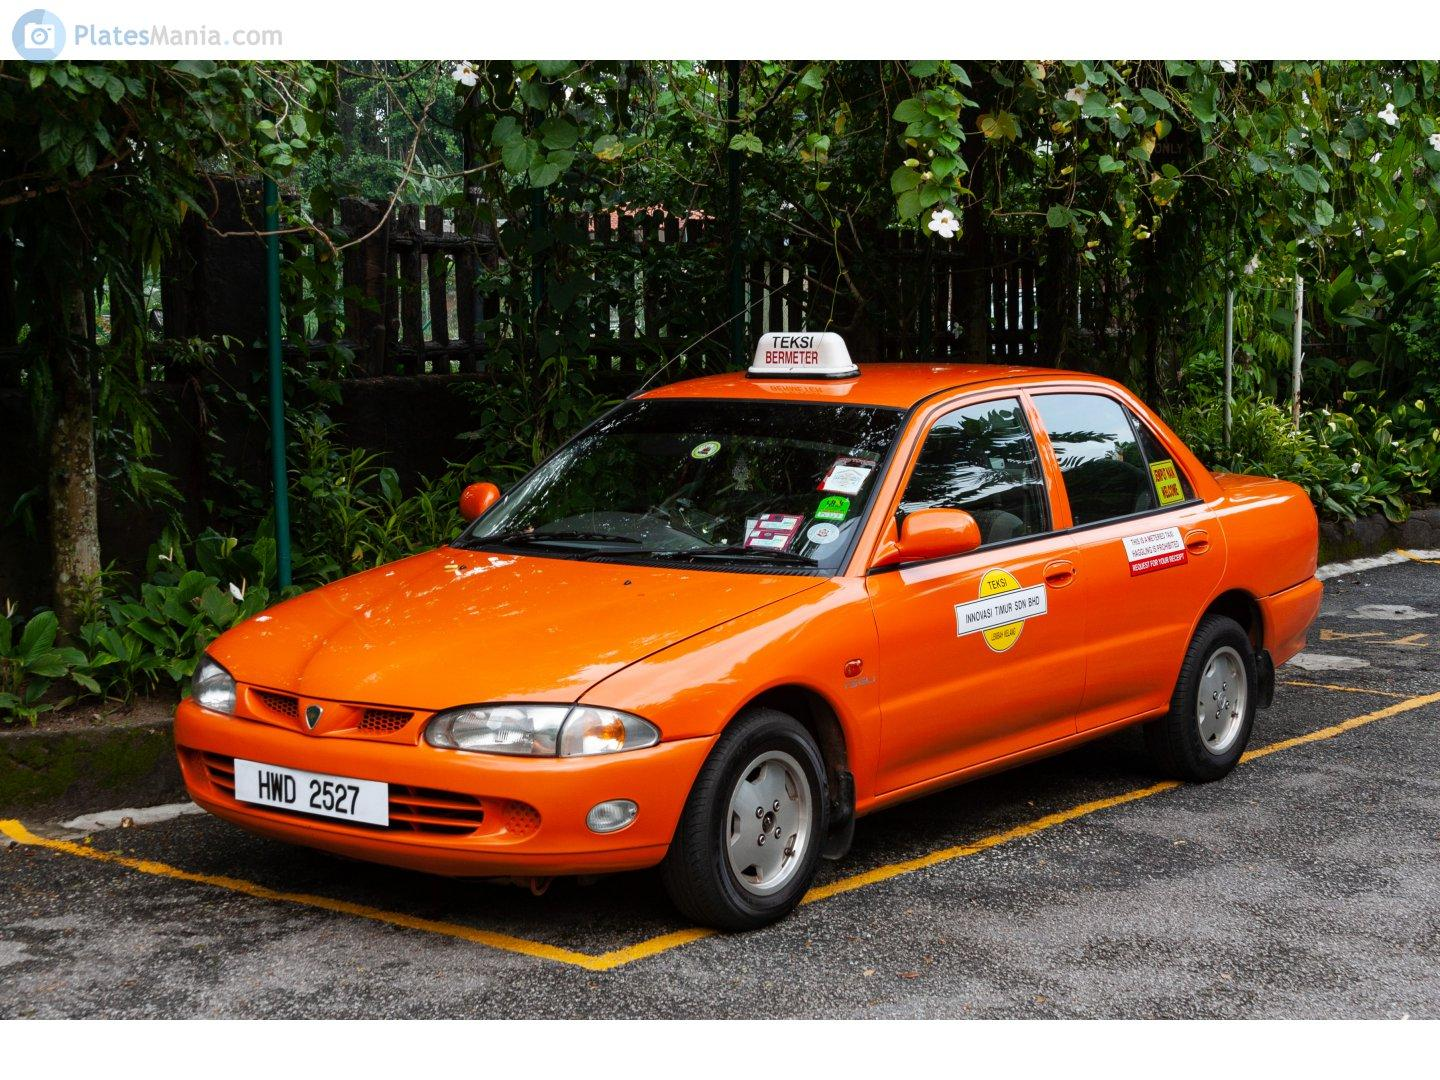License Plate: (234, 760, 393, 829)
